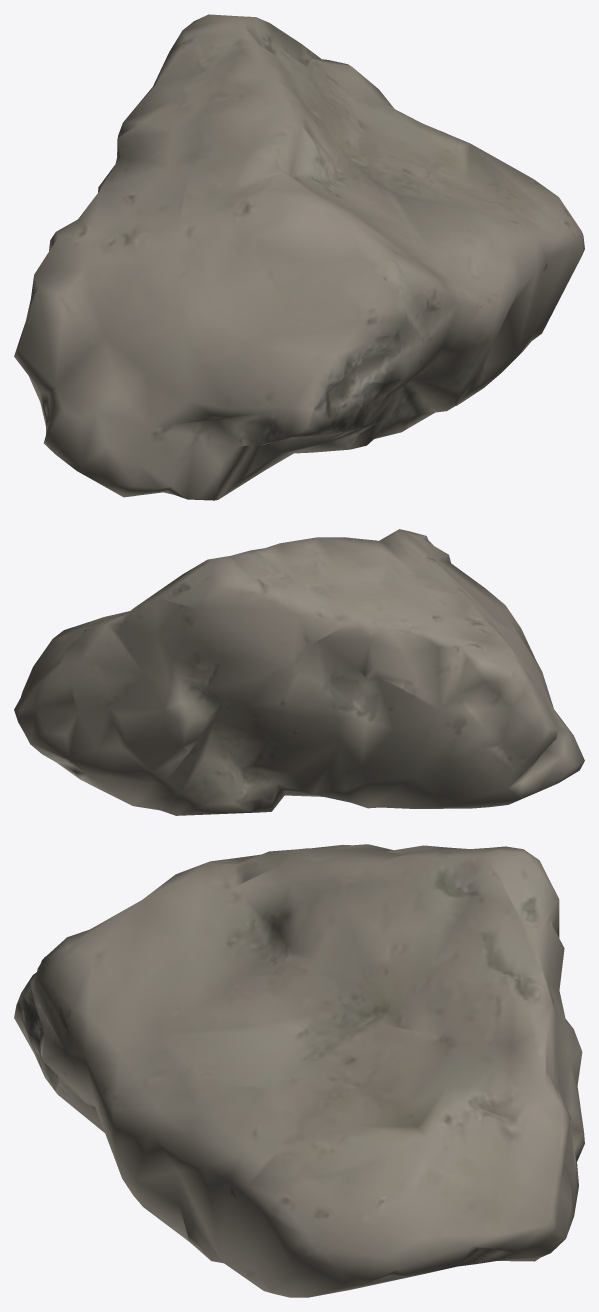
The model's file is moon_rock_03.glb.
3 views of the same model, one above another, from view 1: azimuth 30°, elevation 25°; view 2: azimuth 150°, elevation 25°; view 3: azimuth 270°, elevation 25° (orthographic). The views are drawn at different scales.
Parts seen in each view (by area): view 1: moon_rock_03_LOD0; view 2: moon_rock_03_LOD0; view 3: moon_rock_03_LOD0.
Boxes of the visible parts, box(x1,y1,x2,y2) form: moon_rock_03_LOD0: box(14, 14, 584, 500); moon_rock_03_LOD0: box(14, 529, 584, 815); moon_rock_03_LOD0: box(14, 844, 584, 1297).
Bounding box in the file's own units: 0.112 × 0.0582 × 0.0861.
1 material, 1 textured.
